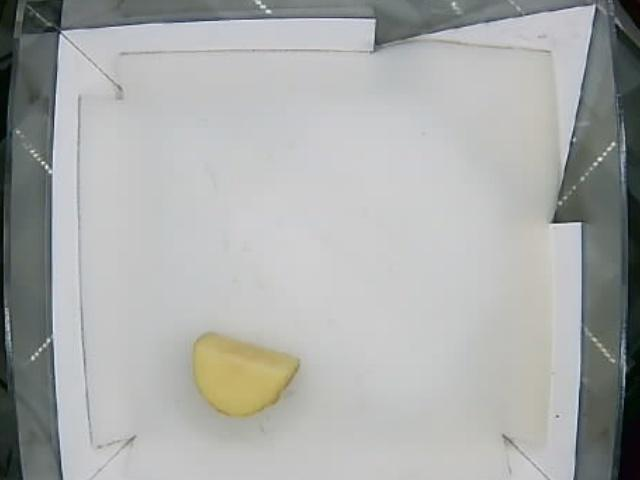Potato: (192, 332, 301, 419)
